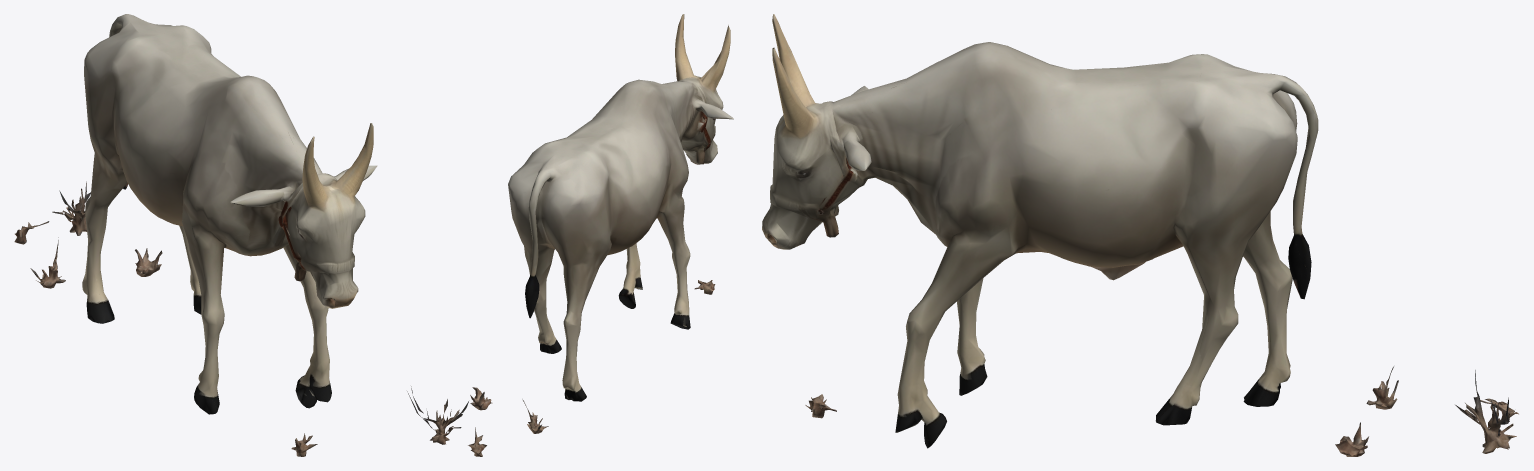
Rendered from okuz.glb.
The picture shows the model from 3 angles, left to right: view 1: azimuth 30°, elevation 25°; view 2: azimuth 150°, elevation 25°; view 3: azimuth 270°, elevation 25°; orthographic projection. The views are drawn at different scales.
Bounding box in the file's own units: 0.5121 × 1.07 × 1.84.
Materials: 1 (1 with a texture image).
